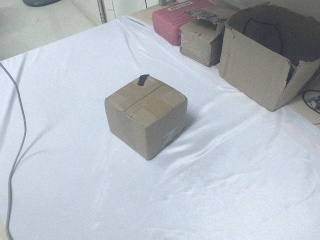box: (218, 1, 320, 112), (105, 73, 189, 159), (152, 1, 215, 46), (180, 18, 224, 68)
